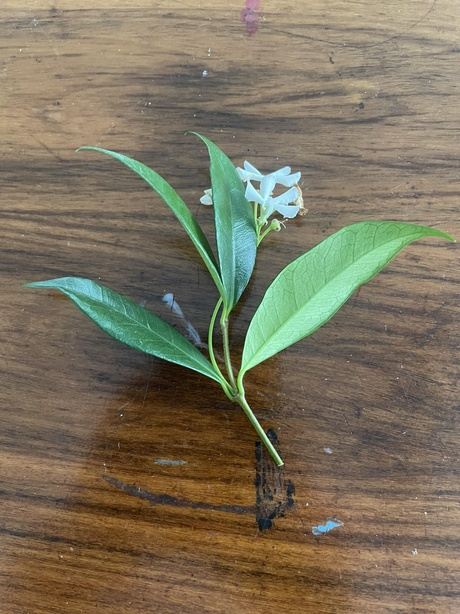leaf: (240, 212, 454, 384), (19, 268, 222, 396)
